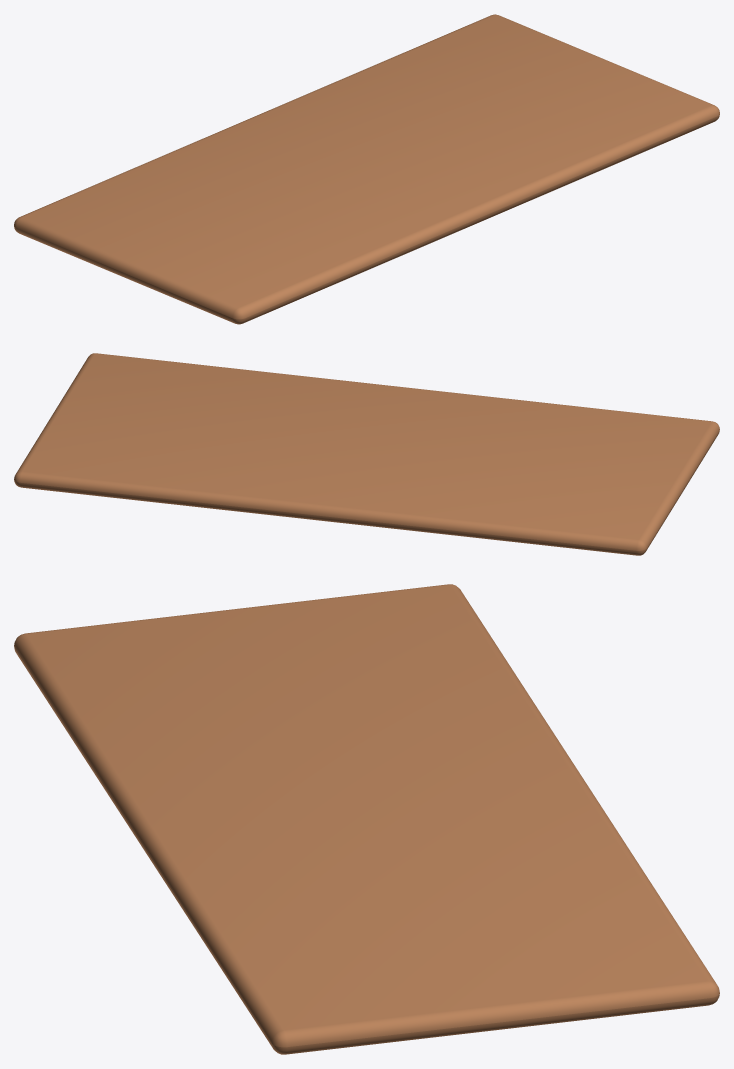
The picture shows the model from 3 angles, top to bottom: view 1: azimuth 30°, elevation 25°; view 2: azimuth 150°, elevation 25°; view 3: azimuth 270°, elevation 25°; orthographic projection. The views are drawn at different scales.
Parts seen in each view (by area): view 1: 土; view 2: 土; view 3: 土.
Boxes of the visible parts, left/top/right/bottom form: 土: left=14, top=14, right=719, bottom=324; 土: left=14, top=353, right=719, bottom=555; 土: left=14, top=584, right=719, bottom=1054.
Bounding box in the file's own units: 17 × 0.4089 × 11.13.
